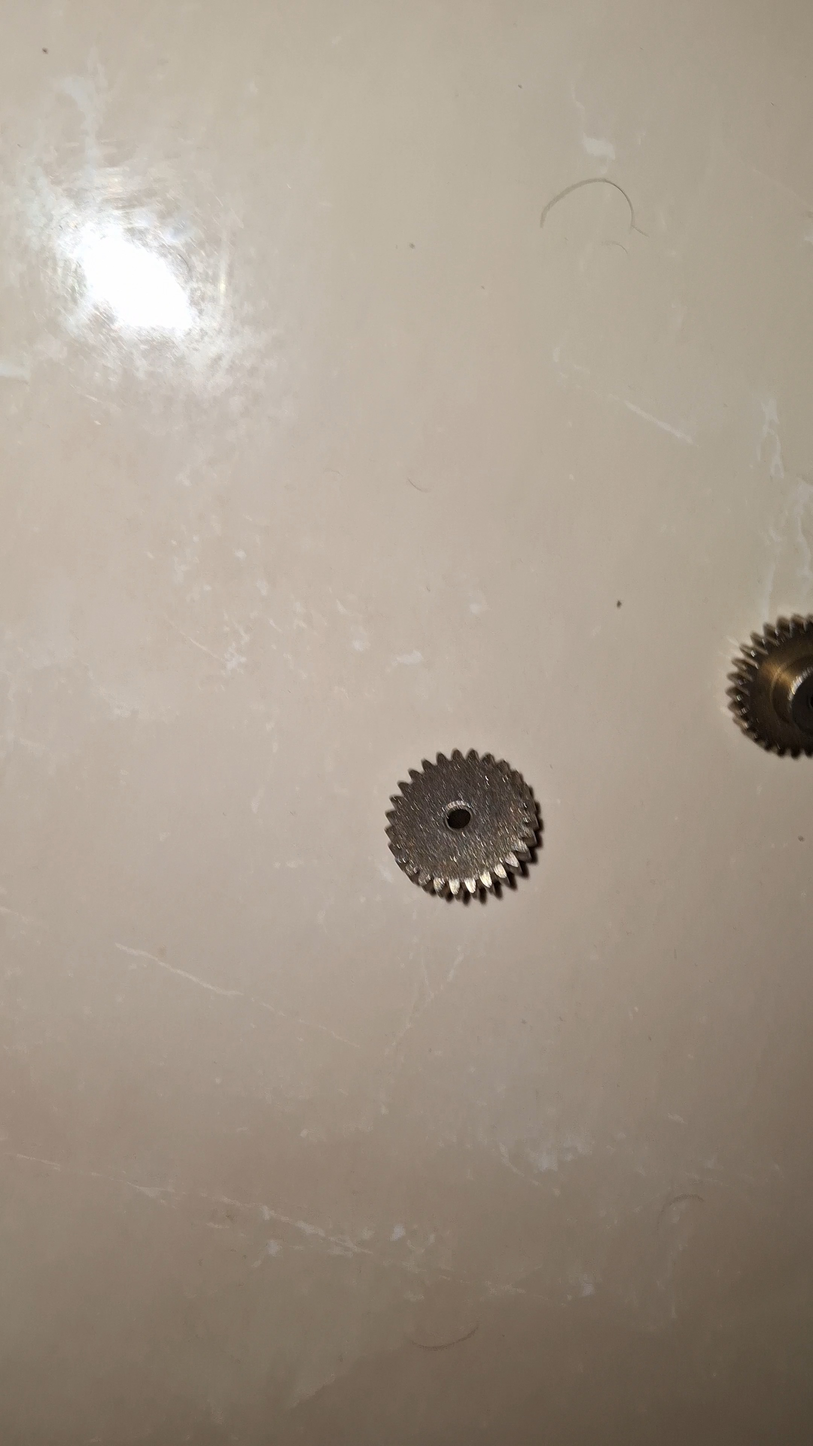spur gear: (387, 750, 539, 896), (728, 616, 813, 757)
